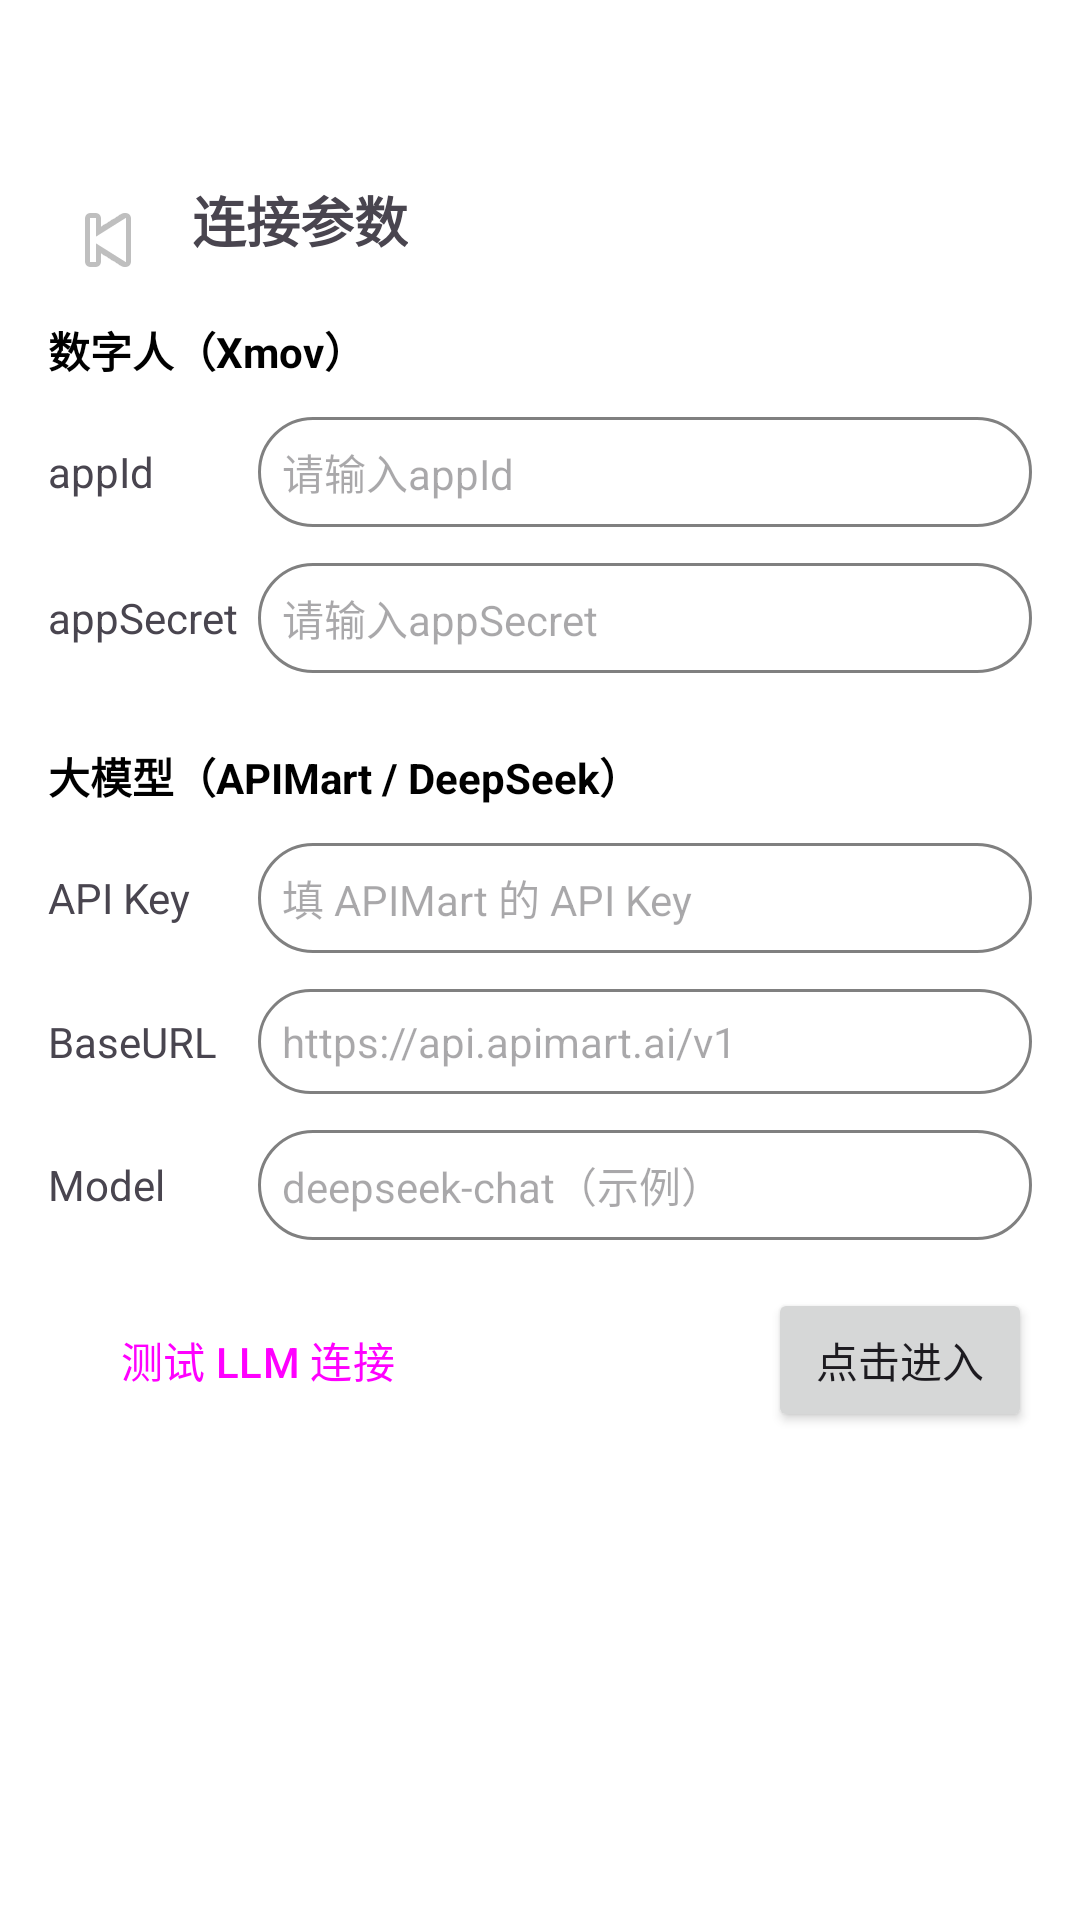

Named icons in this screenshot (1080 × 1920) and their centers, [x,y]:
返回: [108,240]
